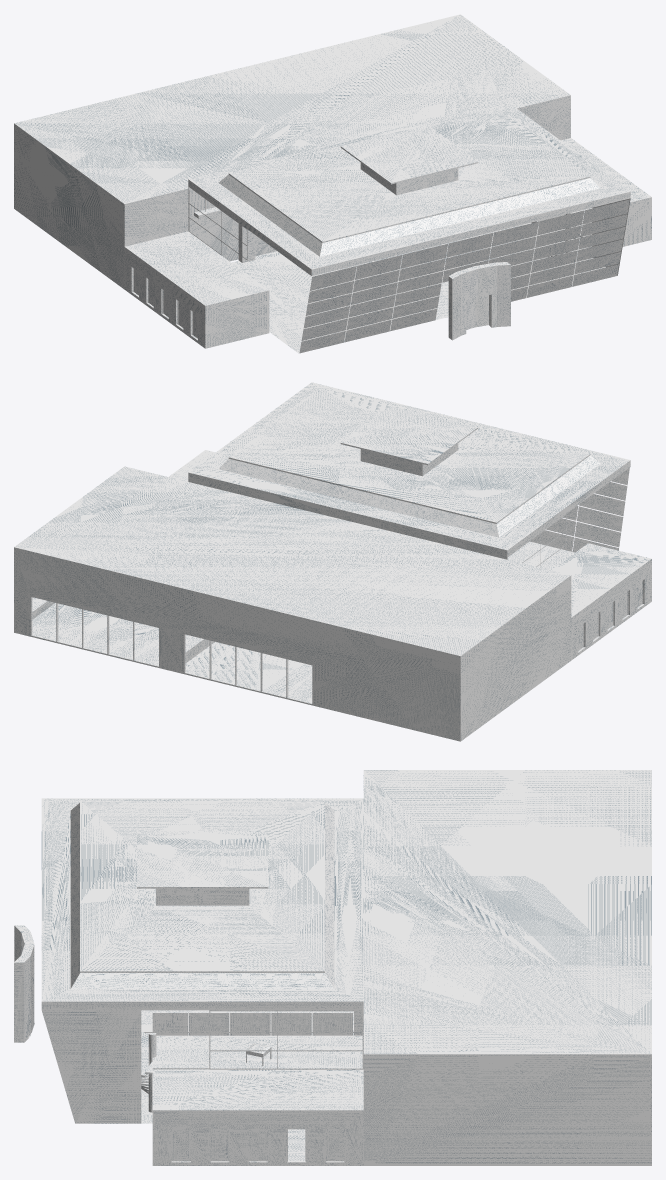
The model's file is vsetko_biele.obj.
3 renders of one model, top to bottom at view 1: azimuth 30°, elevation 25°; view 2: azimuth 150°, elevation 25°; view 3: azimuth 270°, elevation 25°, orthographic. The views are drawn at different scales.
Parts seen in each view (by area): view 1: Mesh22 Model, Mesh25 Model, Mesh58 Model, Mesh36 Model, Mesh43 Model, Mesh45 Model, Mesh49 Model, Mesh48 Model, Mesh32 Model, Mesh35 Model, Mesh47 Model, Mesh37 Model (+19 smaller); view 2: Mesh22 Model, Mesh31 Model, Mesh30 Model, Mesh28 Model; view 3: Mesh22 Model, Mesh25 Model, Mesh12 zabradlie_sklenene_kus4 Model, Mesh9 zabradlie_sklenene_kus1 Model, Mesh10 zabradlie_sklenene_kus2 Model, Mesh11 zabradlie_sklenene_kus3 Model.
Boxes of the visible parts, x1,y1,x2,y2 form: Mesh22 Model: (14, 14, 651, 353); Mesh25 Model: (448, 262, 510, 340); Mesh58 Model: (400, 244, 447, 268); Mesh36 Model: (355, 255, 402, 279); Mesh43 Model: (582, 199, 629, 224); Mesh45 Model: (491, 221, 538, 246); Mesh49 Model: (537, 210, 584, 235); Mesh48 Model: (446, 233, 493, 257); Mesh32 Model: (310, 266, 356, 290); Mesh35 Model: (396, 271, 443, 293); Mesh47 Model: (398, 258, 445, 281); Mesh37 Model: (394, 283, 441, 306); Mesh22 Model: (14, 382, 651, 741); Mesh31 Model: (577, 506, 623, 531); Mesh30 Model: (574, 522, 620, 547); Mesh28 Model: (579, 494, 625, 516); Mesh22 Model: (41, 770, 651, 1165); Mesh25 Model: (14, 925, 34, 1042); Mesh12 zabradlie_sklenene_kus4 Model: (188, 1013, 229, 1035); Mesh9 zabradlie_sklenene_kus1 Model: (312, 1013, 352, 1035); Mesh10 zabradlie_sklenene_kus2 Model: (271, 1013, 311, 1035); Mesh11 zabradlie_sklenene_kus3 Model: (230, 1013, 270, 1035).
Size of the model in its own units: 35 by 9.47 by 33.18.
